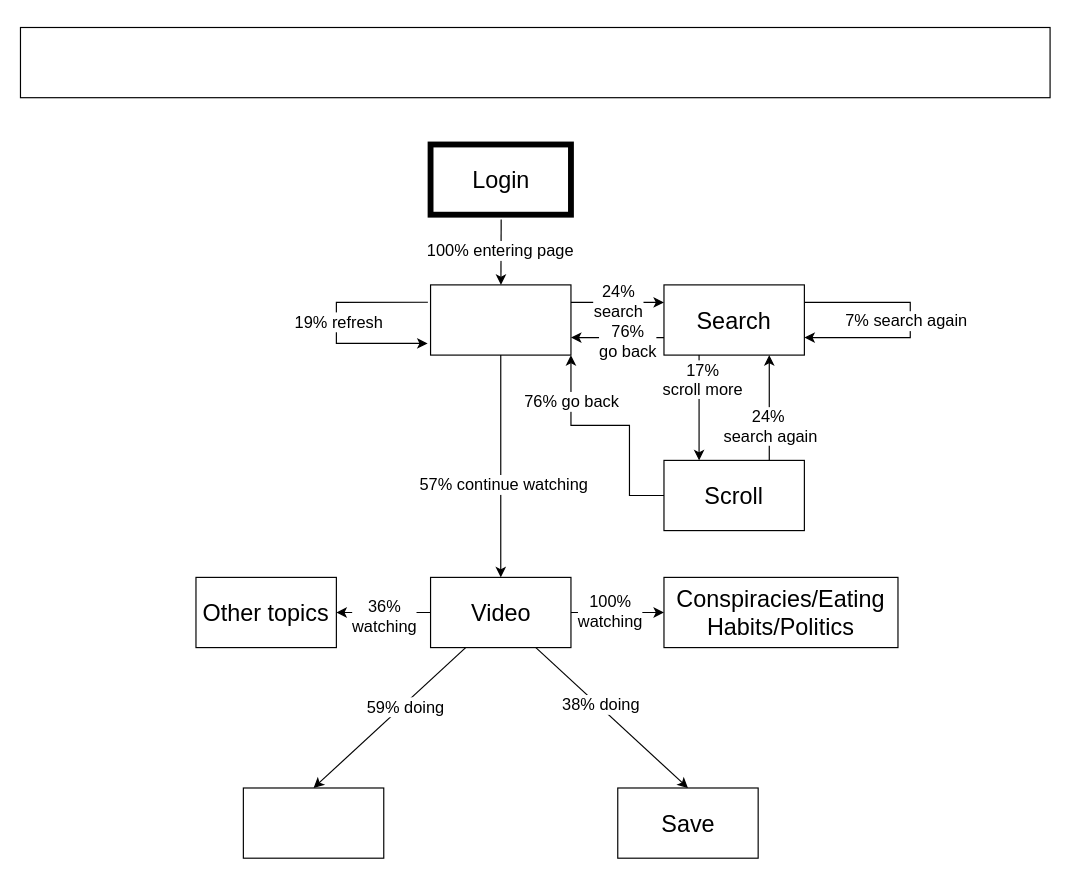
The diagram is 1071 pixels wide and 879 high, and some of its shapes have lost their labels. The shapes that lost their labels are listed below. From the top down, each one's centre as x and y in pixels, then its label:
point 534,62: Bot Diagram
point 500,319: For You
point 313,822: Refresh
